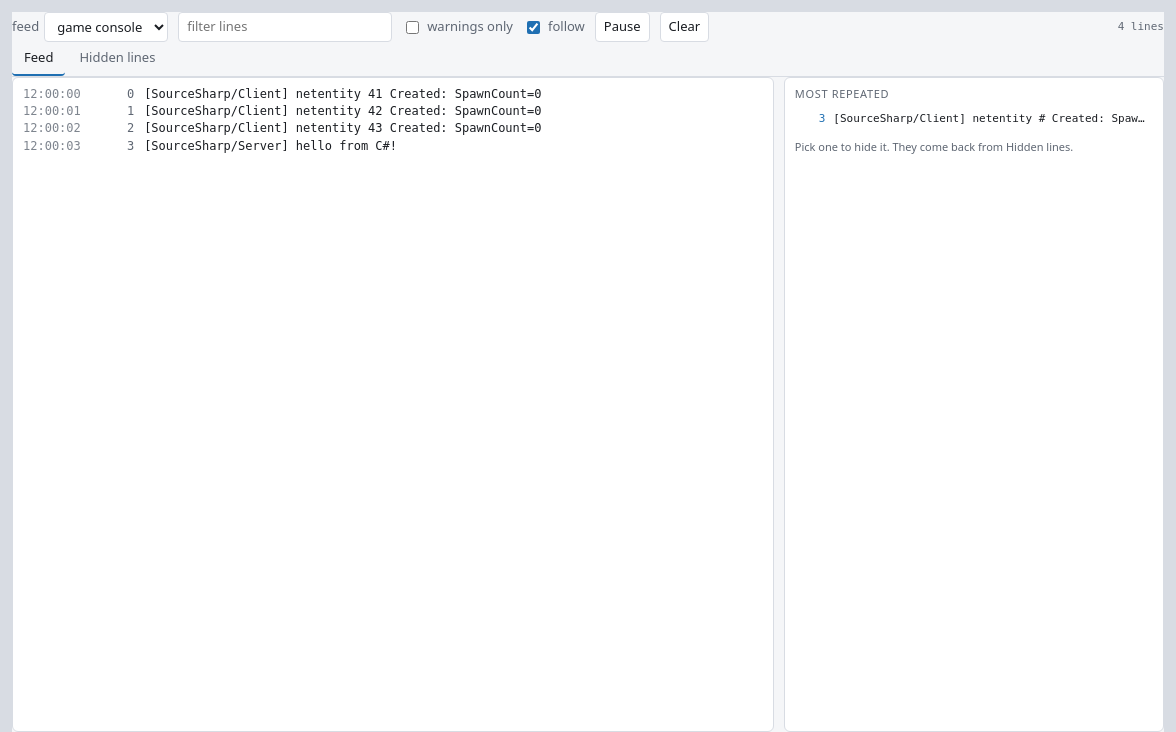
Test: what is repeating › hides the pattern when it is picked
Click the text "[SourceSharp/Client] netentity # Created: SpawnCount=#" at (991,119), box [833, 111, 1149, 128]
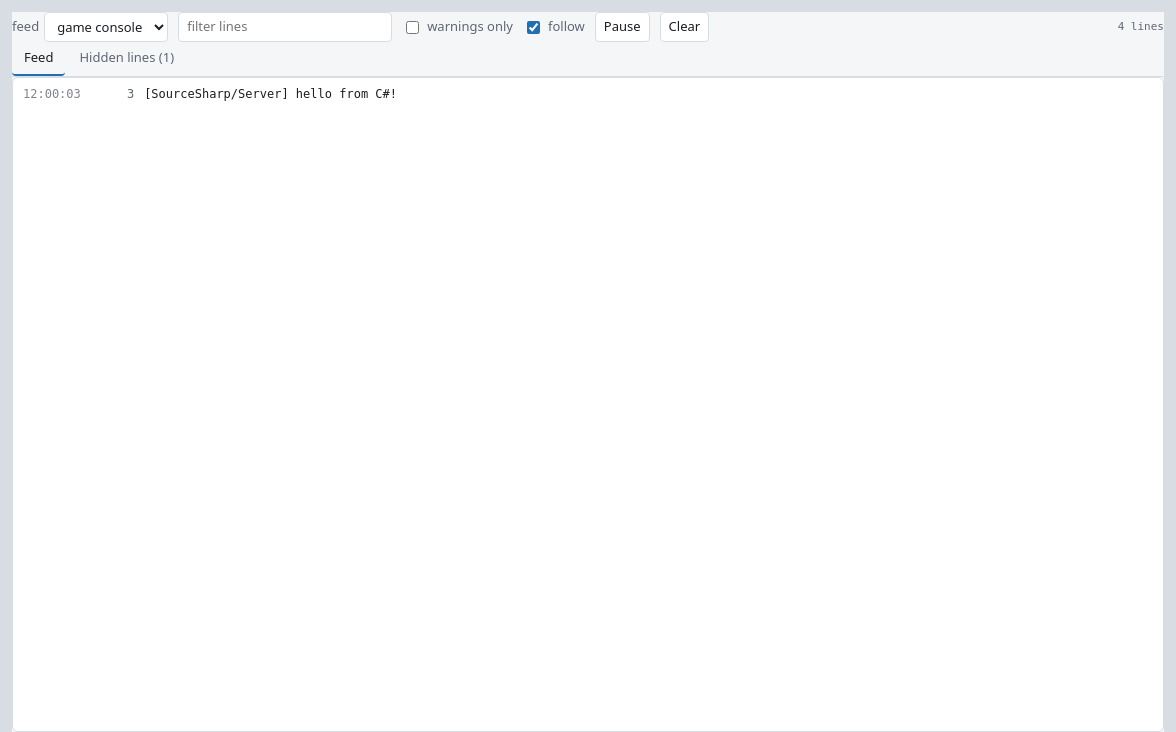
Result: the text "netentity" is gone
Result: the heading labelled "Most repeated" is gone
